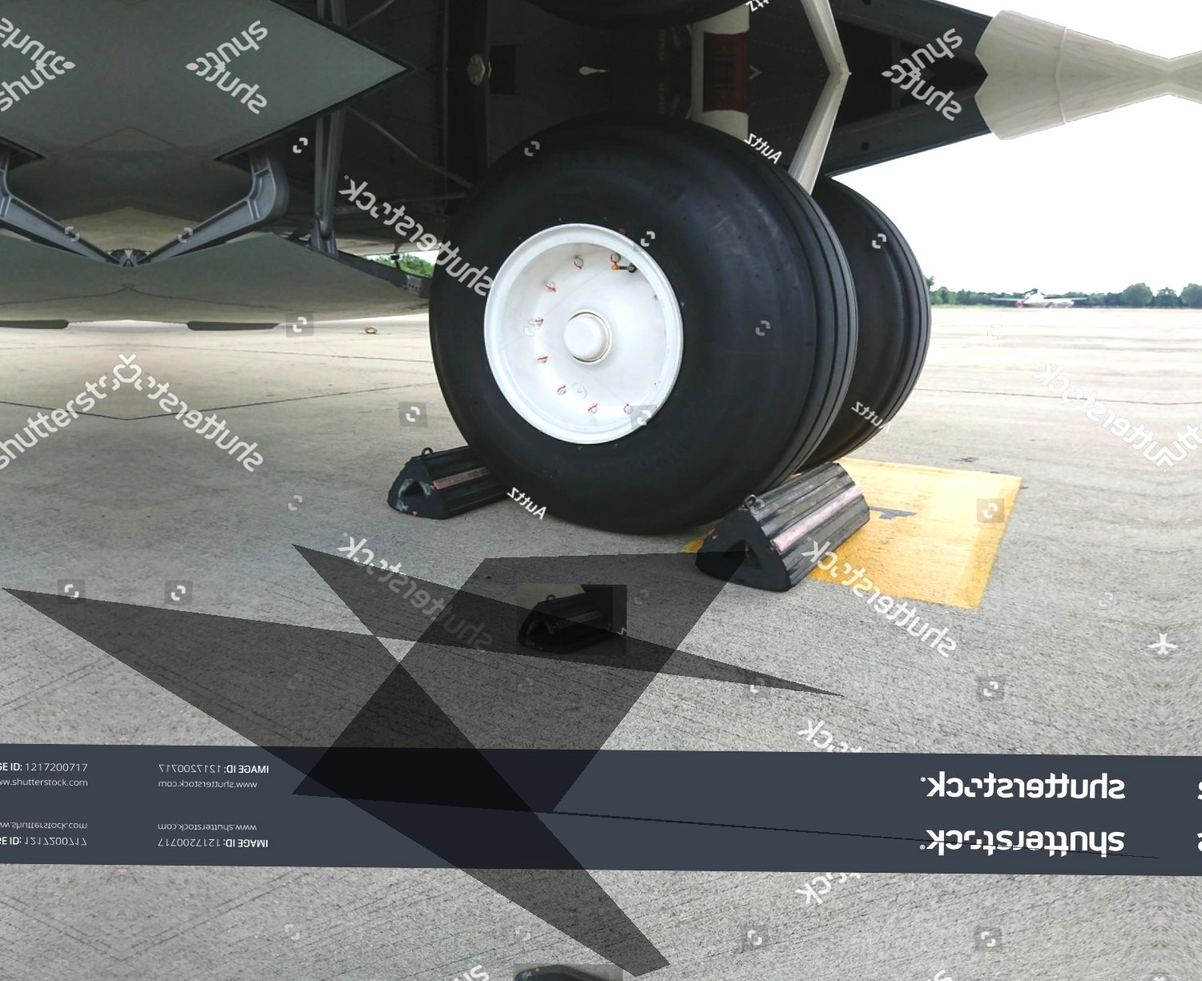chock: (696, 459, 872, 593), (385, 435, 519, 523), (516, 584, 627, 656), (520, 586, 613, 647)
wheel: (448, 113, 842, 537), (791, 173, 937, 469)
